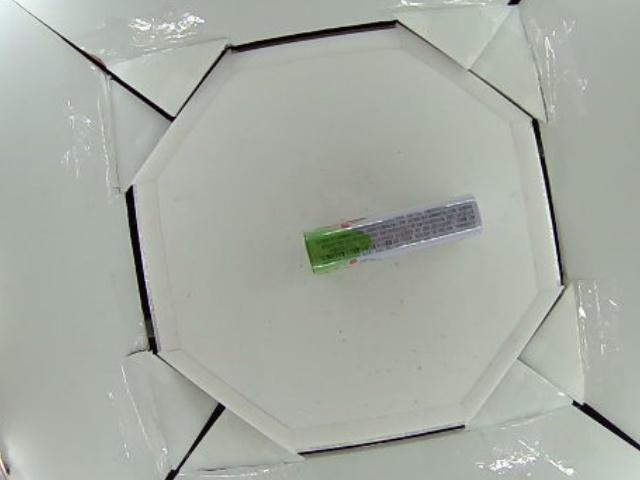Bottle: (301, 191, 486, 280)
